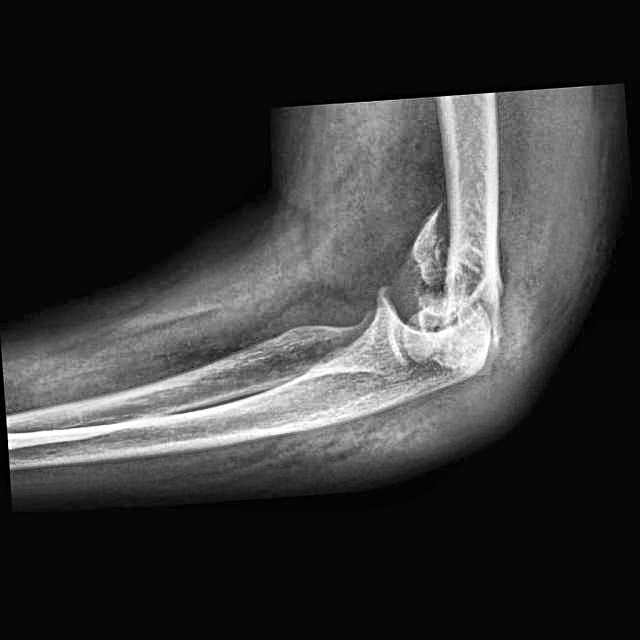Oblique Displaced: (404, 200, 498, 328)
